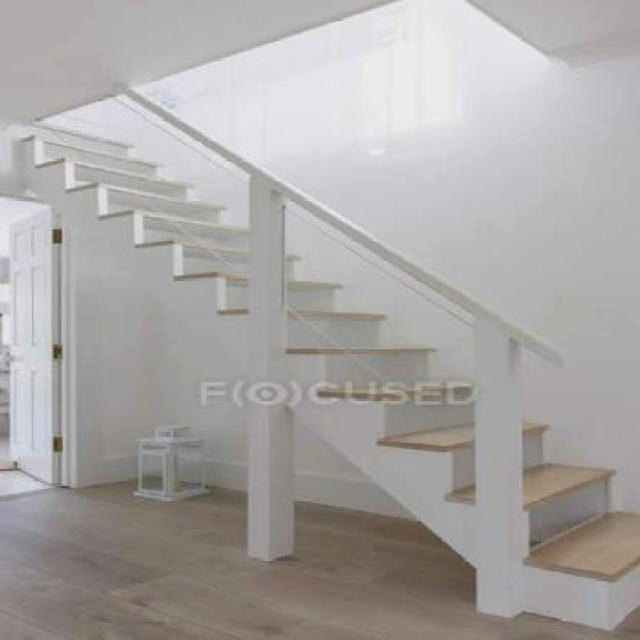stair: (21, 92, 638, 633)
